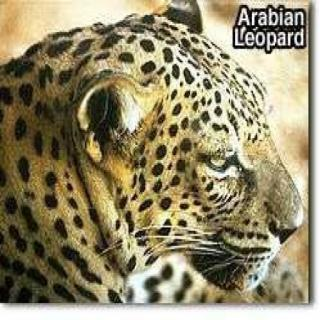Leopard: (8, 12, 296, 303)
